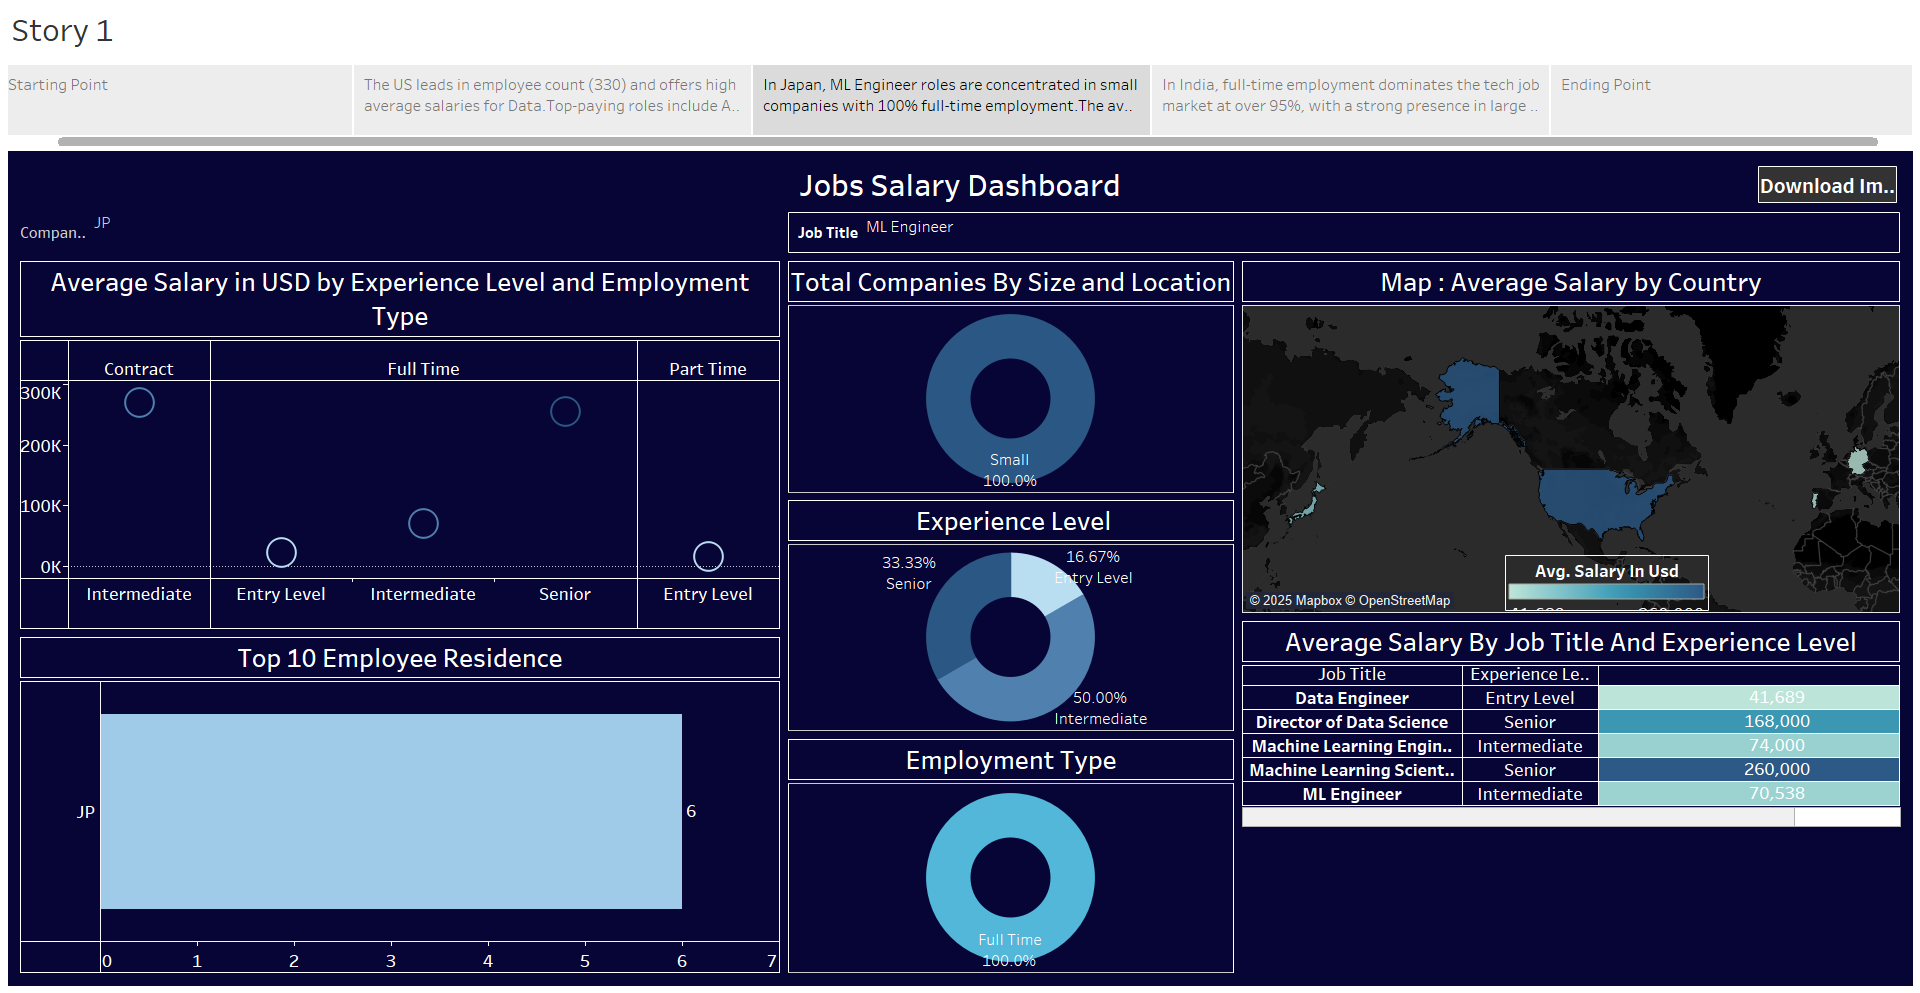

Layout of this report page (visuals, bound fields, positions):
{"tool":"tableau","page":{"name":"Dashboard 1","canvas":[1000,1000],"units":"permille","ordinal":0},"visuals":[{"type":"title","box":[4.8,10,990.3,61.2]},{"type":"dashboard-object","box":[919.1,17.5,73,44.9]},{"type":"filter","title":"Total Companies By Size and Location","param":"[federated.06j91v41yytjut1d6ev5m0dt3v7q].[none:company_location:nk]","box":[4.8,71.2,403.1,58]},{"type":"filter","title":"Map : Average Salary by Country","param":"[federated.06j91v41yytjut1d6ev5m0dt3v7q].[none:job_title:nk]","box":[407.9,71.2,587.3,58]},{"type":"worksheet","title":"Average Salary in USD by Experience Level and Employment Type ","mark":"Shape","rows":["salary_in_usd"],"cols":["employment_type","experience_level"],"box":[4.8,129.2,402.9,449.3]},{"type":"worksheet","title":"Total Companies By Size and Location","mark":"Pie","rows":["Calculation_912823416019795973","Calculation_912823416019812359"],"box":[407.7,129.2,238.1,286.3]},{"type":"worksheet","title":"Map : Average Salary by Country","mark":"Automatic","box":[645.8,129.2,349.3,430.2]},{"type":"worksheet","title":" Experience Level ","mark":"Pie","rows":["Calculation_912823416019795973","Calculation_912823416019812359"],"box":[407.7,415.5,238.1,285.6]},{"type":"legend","title":"Average Salary By Job Title And Experience Level","param":"[federated.06j91v41yytjut1d6ev5m0dt3v7q].[avg:salary_in_usd:qk]","box":[786.4,484.4,106.8,67.4]},{"type":"worksheet","title":"Average Salary By Job Title And Experience Level","mark":"Square","rows":["job_title","experience_level"],"box":[645.8,559.5,349.3,430.6]},{"type":"worksheet","title":"Top 10 Employee Residence","mark":"Automatic","rows":["employee_residence"],"cols":["employee_residence"],"box":[4.8,578.5,402.9,411.5]},{"type":"worksheet","title":"Employment Type","mark":"Pie","rows":["Calculation_912823416019795973","Calculation_912823416019812359"],"box":[407.7,701.1,238.1,288.9]}]}

Visuals, with their boxes on the dashboard's canvas, which has no fixed pixel size, in thousandths of its width and height (x1, y1, x2, y2). These are canvas units, not pixel positions in the 1920x993 screenshot, which may show the page scaled, cropped or inside an application window:
title: <bbox>5, 10, 995, 71</bbox>
dashboard-object: <bbox>919, 18, 992, 62</bbox>
"Total Companies By Size and Location" filter: <bbox>5, 71, 408, 129</bbox>
"Map : Average Salary by Country" filter: <bbox>408, 71, 995, 129</bbox>
"Average Salary in USD by Experience Level and Employment Type " worksheet (Shape marks): <bbox>5, 129, 408, 578</bbox>
"Total Companies By Size and Location" worksheet (Pie marks): <bbox>408, 129, 646, 416</bbox>
"Map : Average Salary by Country" worksheet: <bbox>646, 129, 995, 559</bbox>
" Experience Level " worksheet (Pie marks): <bbox>408, 416, 646, 701</bbox>
"Average Salary By Job Title And Experience Level" legend: <bbox>786, 484, 893, 552</bbox>
"Average Salary By Job Title And Experience Level" worksheet (Square marks): <bbox>646, 560, 995, 990</bbox>
"Top 10 Employee Residence" worksheet: <bbox>5, 578, 408, 990</bbox>
"Employment Type" worksheet (Pie marks): <bbox>408, 701, 646, 990</bbox>
